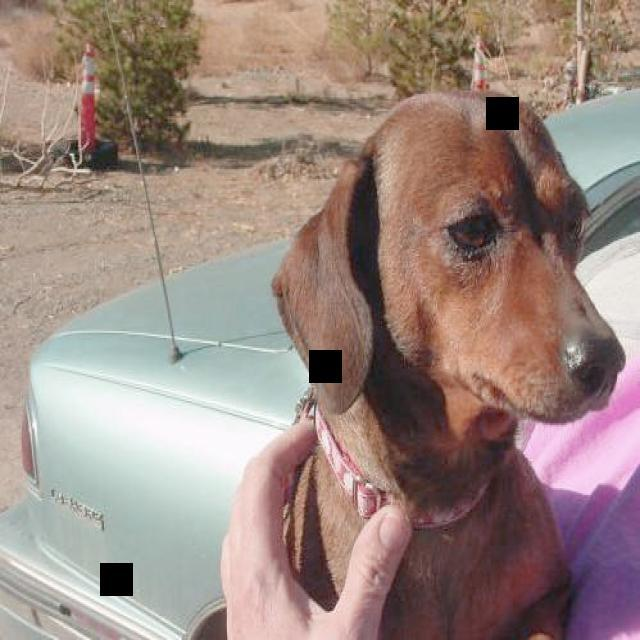adult_dog: (269, 88, 626, 638)
